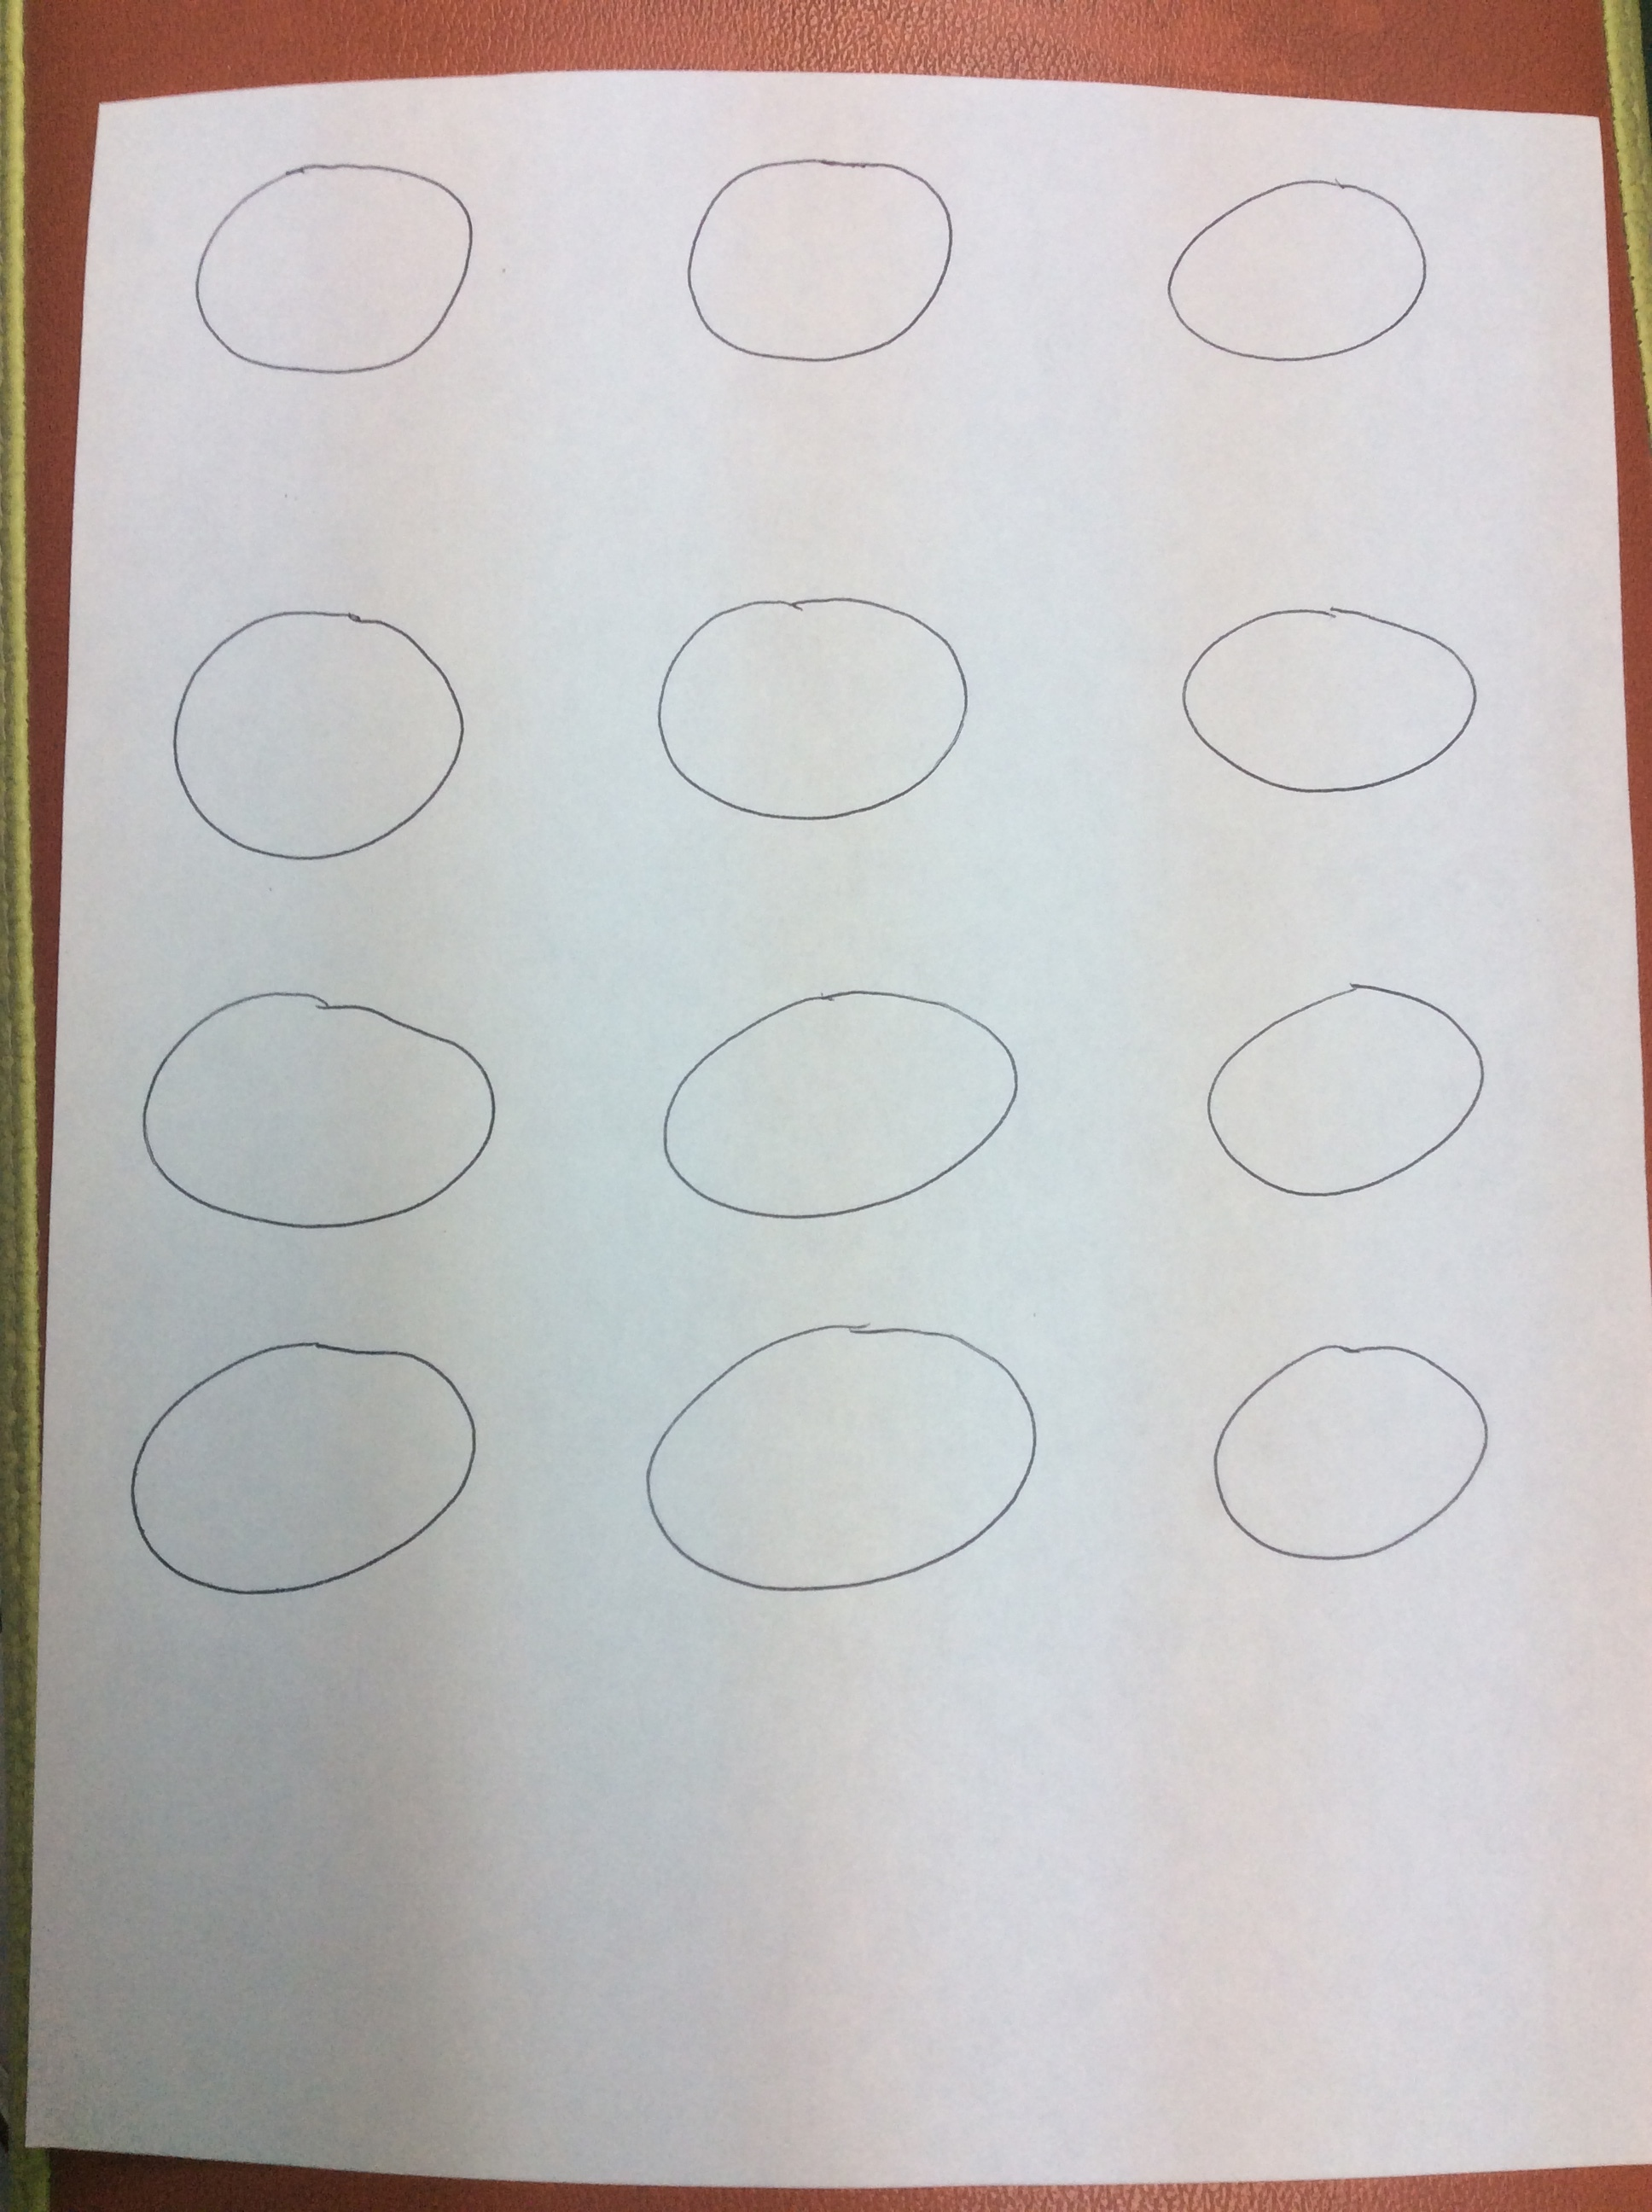start_end: (609, 1308, 1057, 1612), (633, 963, 1029, 1249), (118, 1327, 493, 1615), (142, 586, 489, 888), (118, 984, 517, 1246), (619, 567, 994, 843), (1138, 946, 1503, 1221), (154, 144, 514, 406), (1156, 1315, 1499, 1584), (1149, 571, 1494, 819), (654, 134, 965, 389), (1118, 170, 1463, 385)
